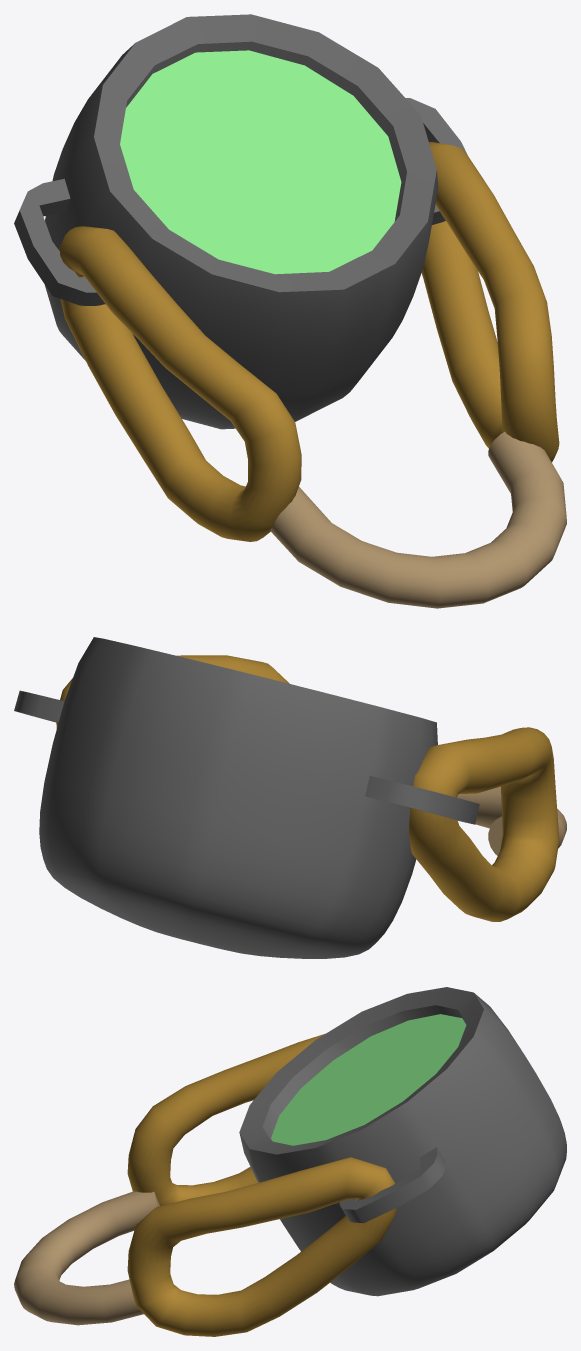
File: PotAndRope.fbx
The picture shows the model from 3 angles, top to bottom: view 1: azimuth 30°, elevation 25°; view 2: azimuth 150°, elevation 25°; view 3: azimuth 270°, elevation 25°; orthographic projection. The views are drawn at different scales.
Visible parts, largest first — view 1: Pot, ArmRopes, Slime, Front_Rope; view 2: Pot, ArmRopes, Front_Rope; view 3: Pot, ArmRopes, Slime, Front_Rope.
Boxes of the visible parts, x1,y1,x2,y2 form: Pot: (14, 14, 467, 429); ArmRopes: (59, 142, 559, 541); Slime: (120, 50, 401, 274); Front_Rope: (270, 432, 566, 608); Pot: (14, 637, 479, 958); ArmRopes: (56, 655, 559, 921); Front_Rope: (457, 786, 566, 855); Pot: (239, 987, 566, 1296); ArmRopes: (127, 1033, 396, 1336); Slime: (271, 1014, 466, 1145); Front_Rope: (14, 1191, 159, 1325).
Bounding box in the file's own units: 129 × 107 × 185.
